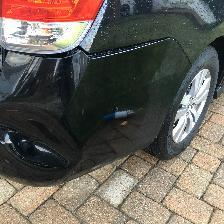scrach: (106, 100, 140, 128)
